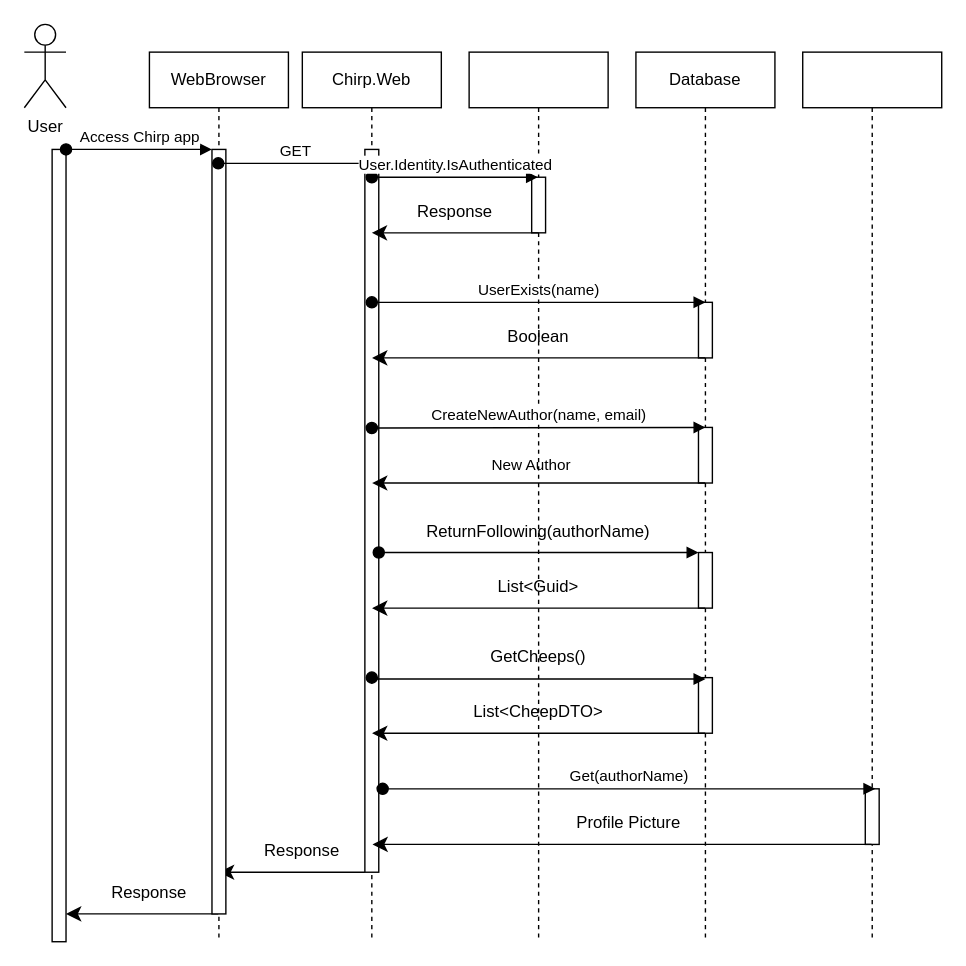
The diagram is 966 pixels wide and 966 high, and some of its shapes have lost their labels. The shapes that lost their labels are listed below. From the top down, each one's box as (x1, y1, x2, y2) in pixels, then its label:
(468, 51, 608, 942): Azure authorization server
(801, 51, 942, 942): Azure Storage Container
